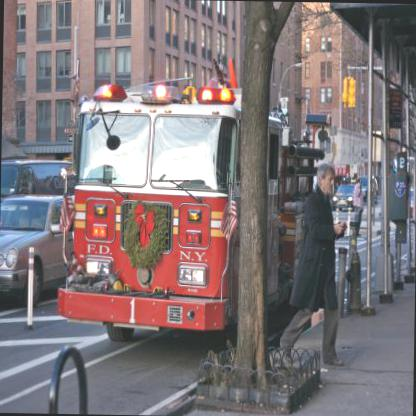truck: (109, 65, 354, 375)
